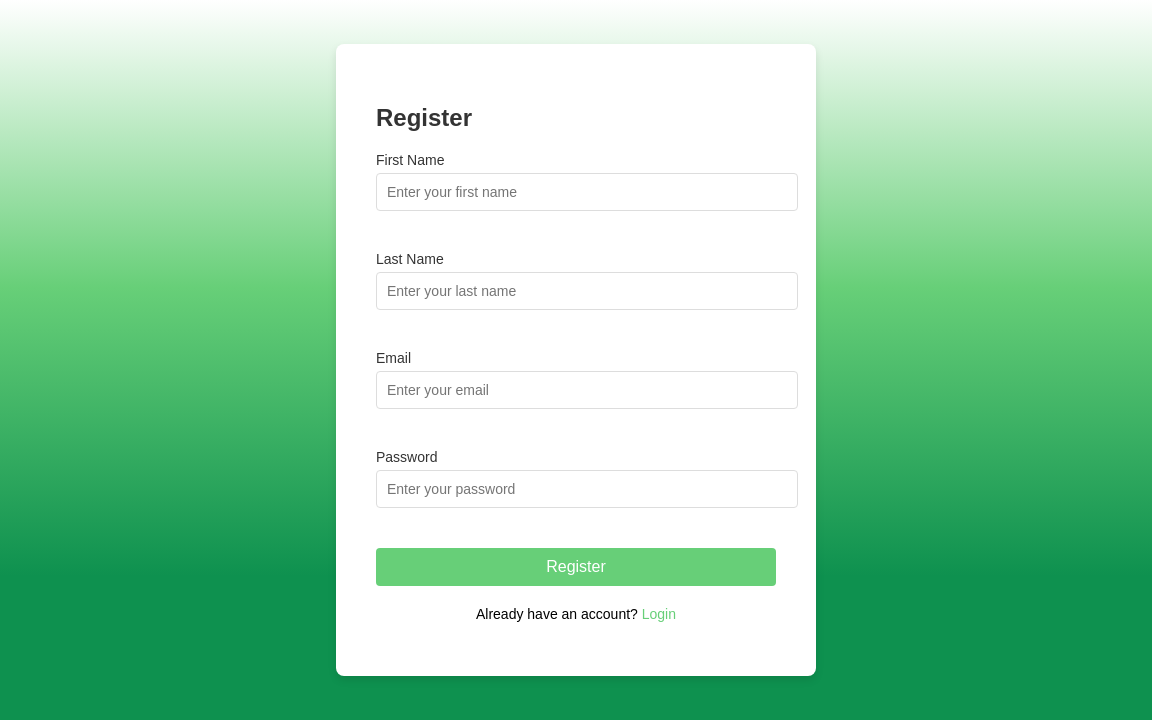
Register Component › shows password validation errors
In the password field labelled "Password": (587, 489) [376,470,798,508], type "short"
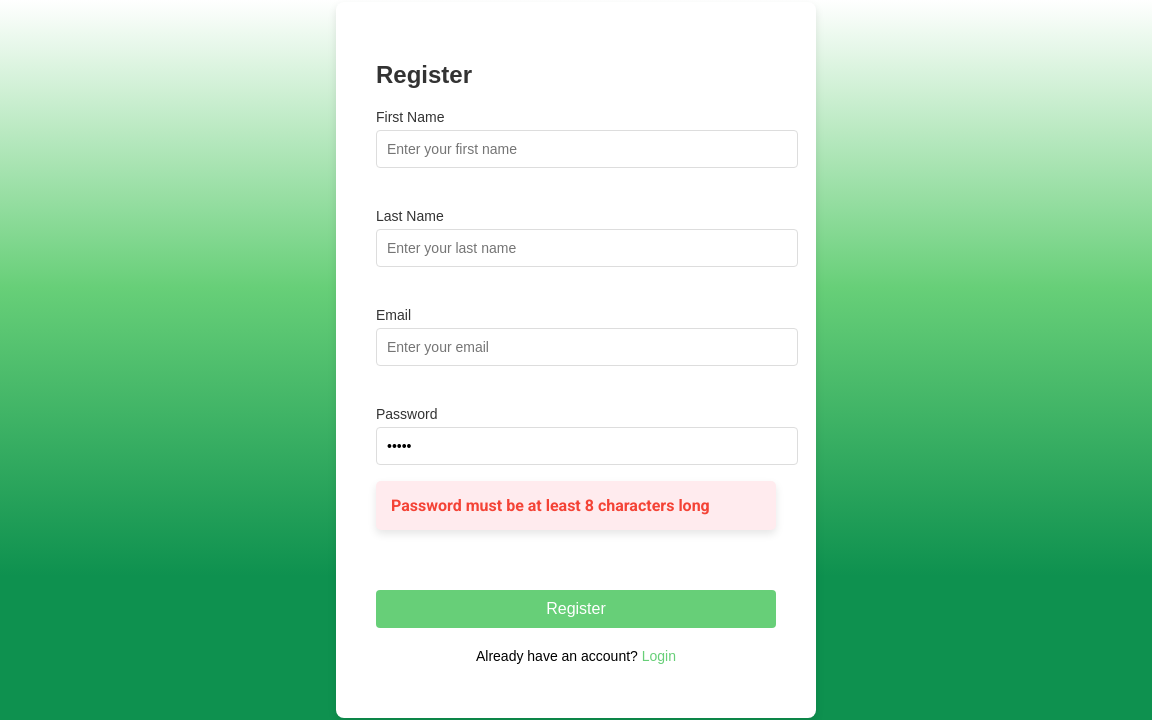
Expected: the text "Password must be at least 8 characters long" is shown, [376,482,776,530]
In the password field labelled "Password": (587, 446) [376,428,798,466], type "NoNumber!"
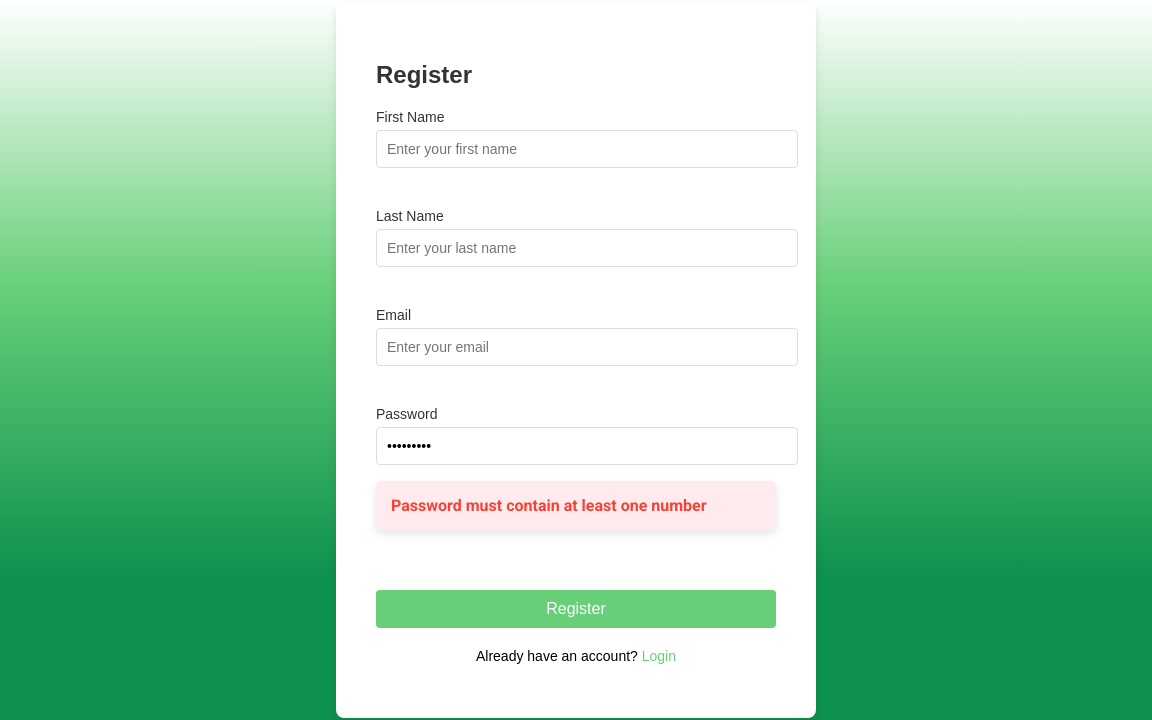
Expected: the text "Password must contain at least one number" is shown, [376,482,776,530]
In the password field labelled "Password": (587, 446) [376,428,798,466], type "nonumberlower!"
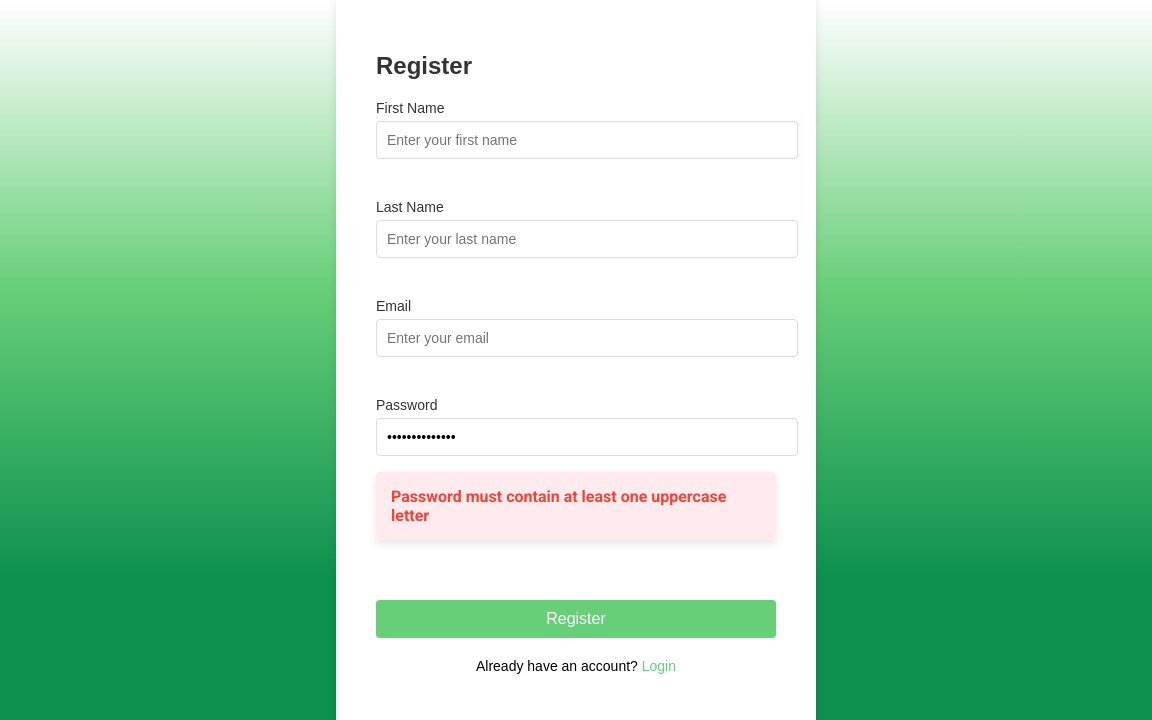
Expected: the text "Password must contain at least one uppercase letter" is shown, [376,472,776,540]
